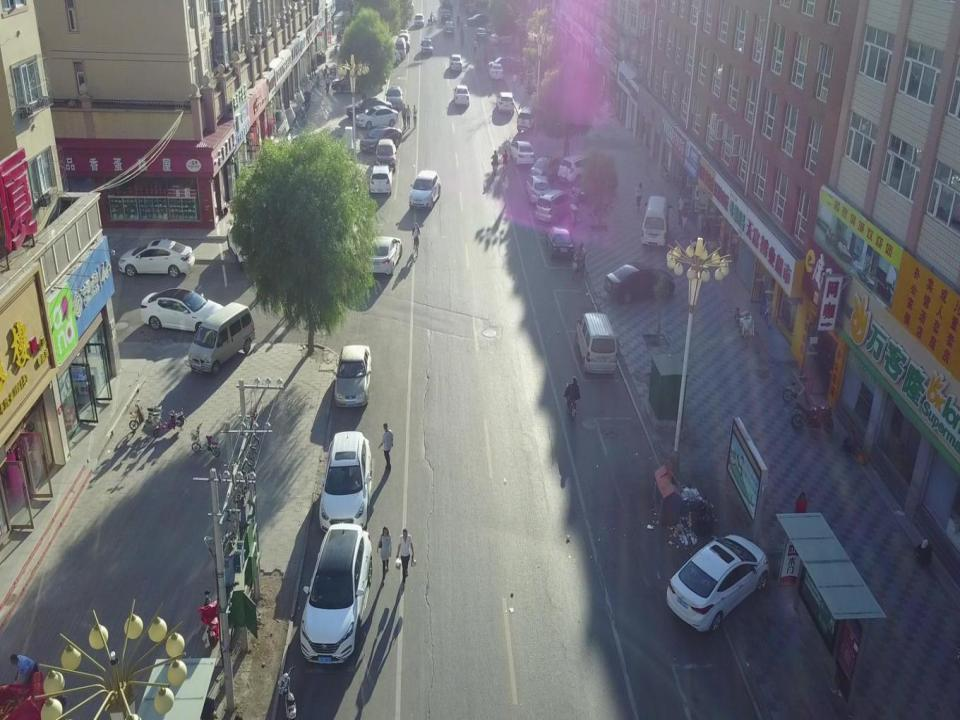car: (298, 522, 374, 666), (666, 533, 769, 635), (319, 430, 372, 538), (139, 287, 226, 334), (604, 261, 675, 305), (116, 239, 195, 278), (333, 344, 372, 408), (571, 166, 619, 202), (362, 235, 402, 276), (408, 169, 441, 209), (359, 125, 403, 153), (558, 154, 599, 184), (354, 104, 399, 129), (345, 97, 393, 119), (545, 224, 575, 259), (530, 155, 566, 180), (524, 174, 552, 205), (372, 140, 396, 170), (509, 140, 536, 166), (370, 165, 393, 195), (517, 106, 541, 133), (487, 56, 522, 72), (384, 86, 404, 112), (496, 91, 514, 113), (489, 30, 515, 45), (378, 50, 400, 66), (453, 85, 470, 105), (466, 14, 490, 26), (448, 54, 463, 72), (489, 63, 504, 80), (421, 36, 433, 54), (443, 21, 455, 36), (414, 13, 424, 27), (441, 8, 451, 22), (475, 28, 486, 40)
van: (185, 302, 255, 375), (573, 312, 618, 378), (640, 195, 672, 247), (535, 189, 578, 223), (394, 38, 406, 60), (398, 33, 410, 53), (398, 28, 409, 42)
